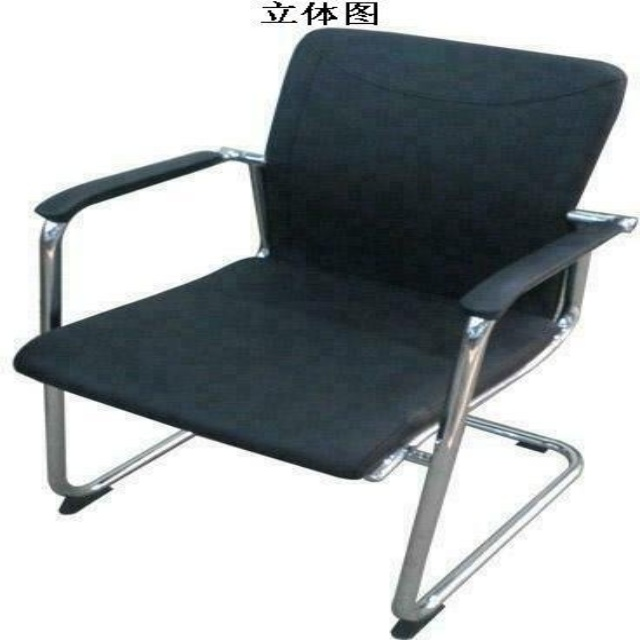obstacle: (14, 29, 633, 638)
